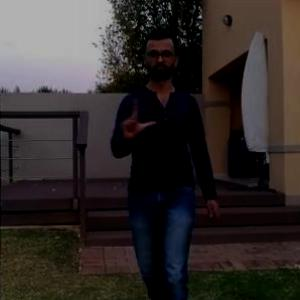land_hand: (114, 90, 161, 143)
